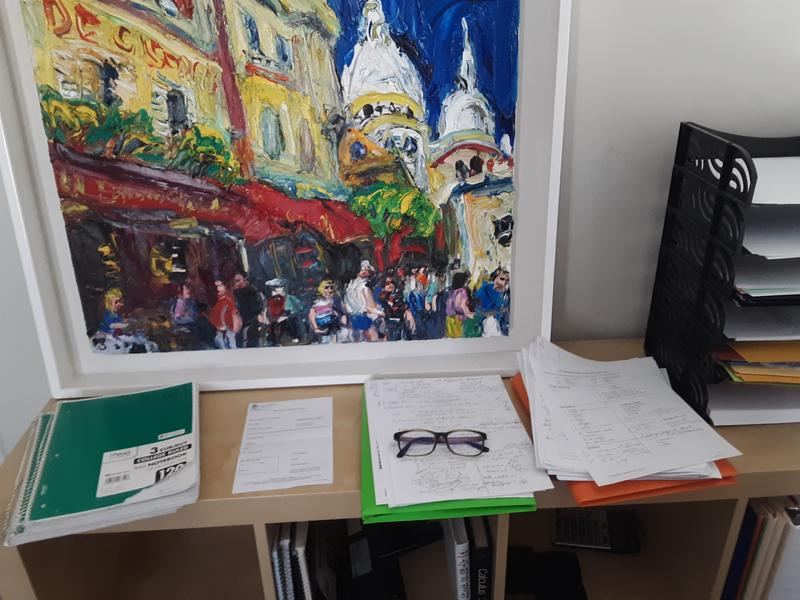glasses: (392, 428, 492, 460)
